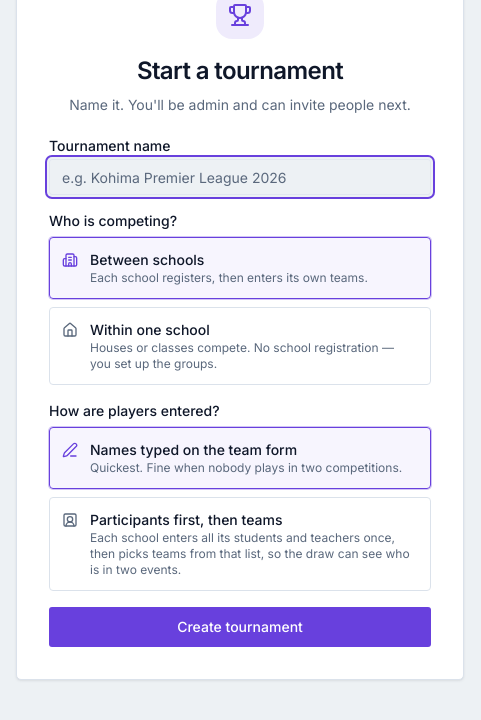
Test: CreateTournamentPage › shows a validation error when name is empty
(page scrolled)
Step 1. Click the button "Create tournament" → (240, 627), box x1=49 y1=607 x2=431 y2=647
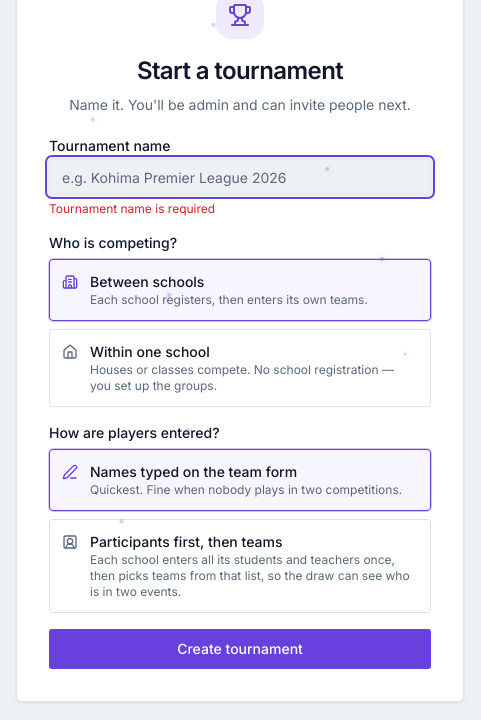
Now the message shows "required", box x1=49 y1=201 x2=215 y2=216
